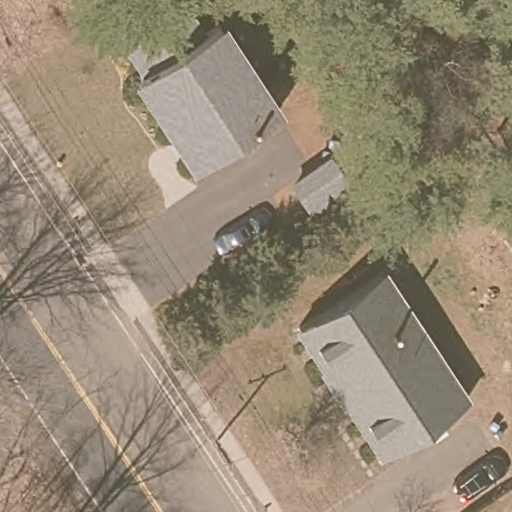DT: (213, 439, 241, 474)
